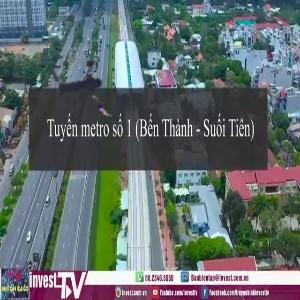drone: (46, 42, 132, 128)
